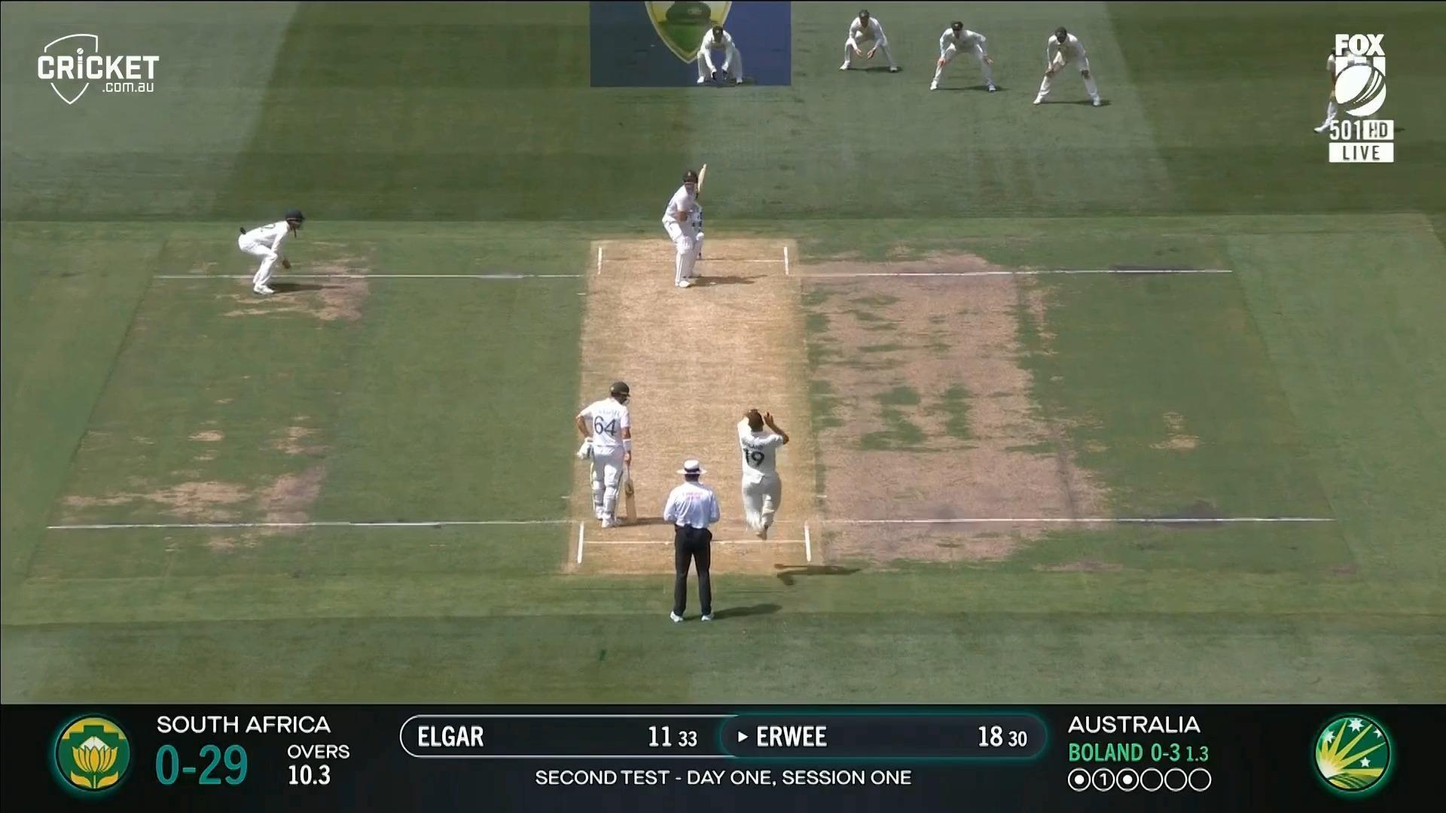BM 1: (661, 163, 709, 288)
BO: (736, 408, 789, 542)
